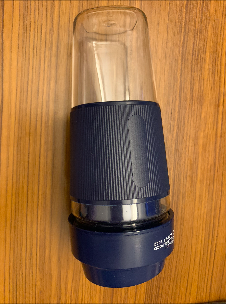object_name: (67, 19, 171, 281)
